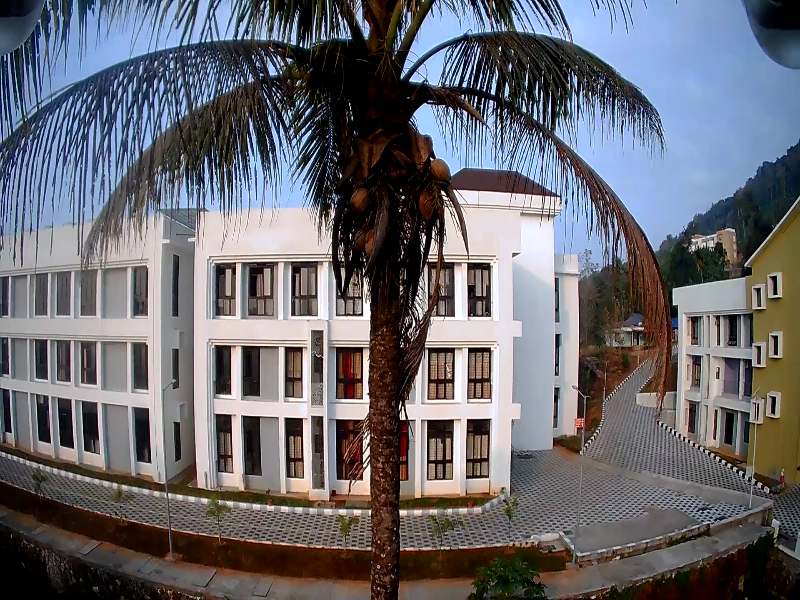coconut: (430, 156, 447, 191), (415, 191, 437, 216), (346, 185, 369, 207), (360, 224, 373, 255), (352, 229, 361, 251)
